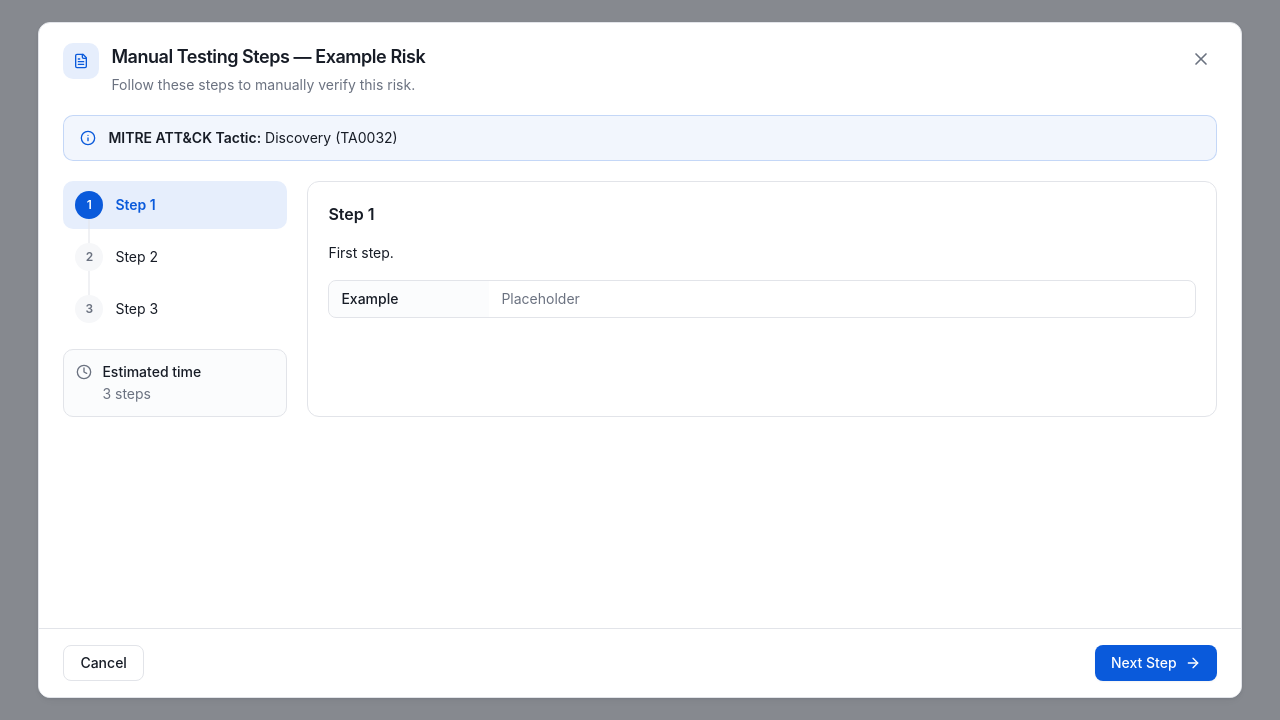
Scenario: manual-test step navigation › offers no way back from the first step
Click the button "2 Step 2".
click(175, 257)  # box left=63, top=233, right=287, bottom=281
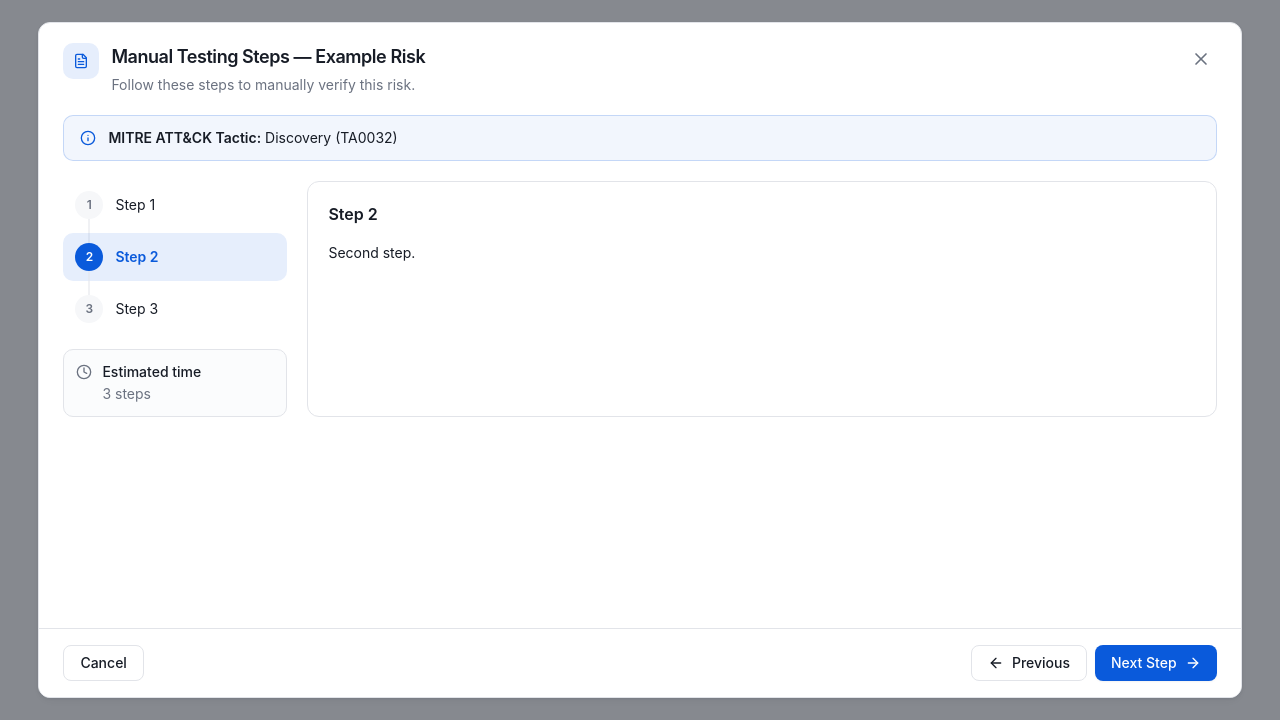
Expected: the button "Previous" is shown, left=971, top=645, right=1087, bottom=681
